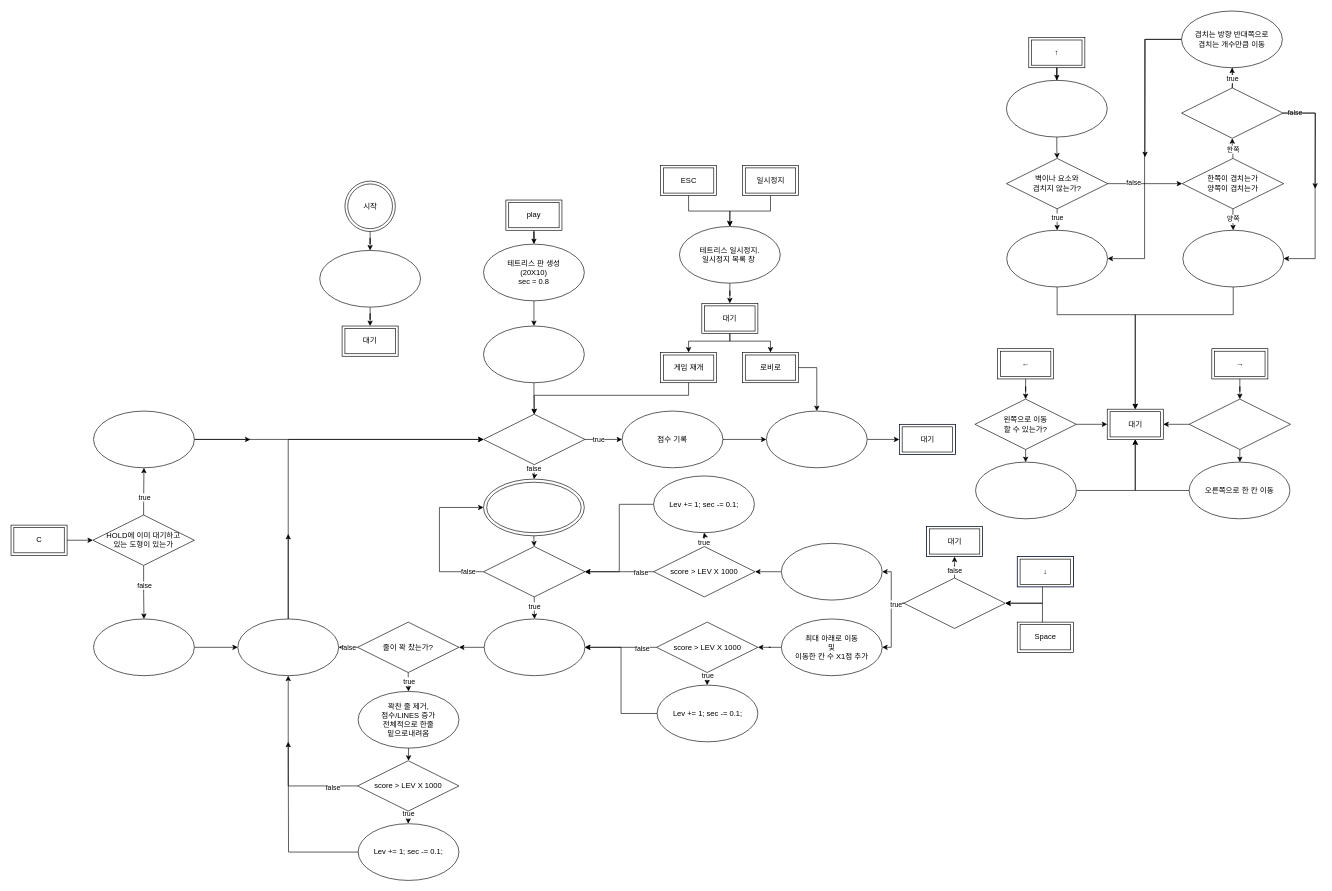
Image size: 1332x891. Some labels were removed from this diagram. Here are the shapes that lost their labels. From the top down, the centre of each, then its label:
At point 1056,108: "현재 위치에서 중심축을 기준으로 시계방향으로 돌림 (아직 화면엔 적용 안됨)".
At point 1232,112: "겹치는 개수만큼 방향 반대쪽에 공간이 있는가?".
At point 370,278: "<로비 화면> play 버튼 HIGH SCORE 기록(5개)".
At point 1057,258: "회전된 상태 화면에 적용".
At point 1233,258: "회전시키지 않음".
At point 533,354: "7개의 도형 중 4개를 랜덤으로 뽑고(중복 가능) 하나는 맵 상단에, 나머지는 NEXT로 보냄".
At point 143,439: "현재 도형을 HOLD로 넘기고 HOLD의 도형을 현재 도형으로 새롭게 생성".
At point 534,439: "방금 생성한 도형이 기존의 도형과 겹치는가?".
At point 816,439: "초기화 및 로비화면으로 이동".
At point 1239,424: "오른쪽으로 이동 할 수 있는가?".
At point 533,507: "방금 맵에 생성된 도형은 sec초마다 1칸씩 떨어짐".
At point 1025,490: "왼쪽으로 한 칸 이동".
At point 534,571: "아래로 더 이상 갈 수 없는가?".
At point 831,571: "아래로 한 칸 이동 및 1점 추가".
At point 954,602: "아래로 내려갈 수 있는가".
At point 143,647: "현재 도형을 HOLD로 이동".
At point 288,647: "NEXT에 대기중인 도형을 맵에 생성, 새로운 도형 NEXT에 삽입".
At point 534,647: "도형을 고정시킴".
